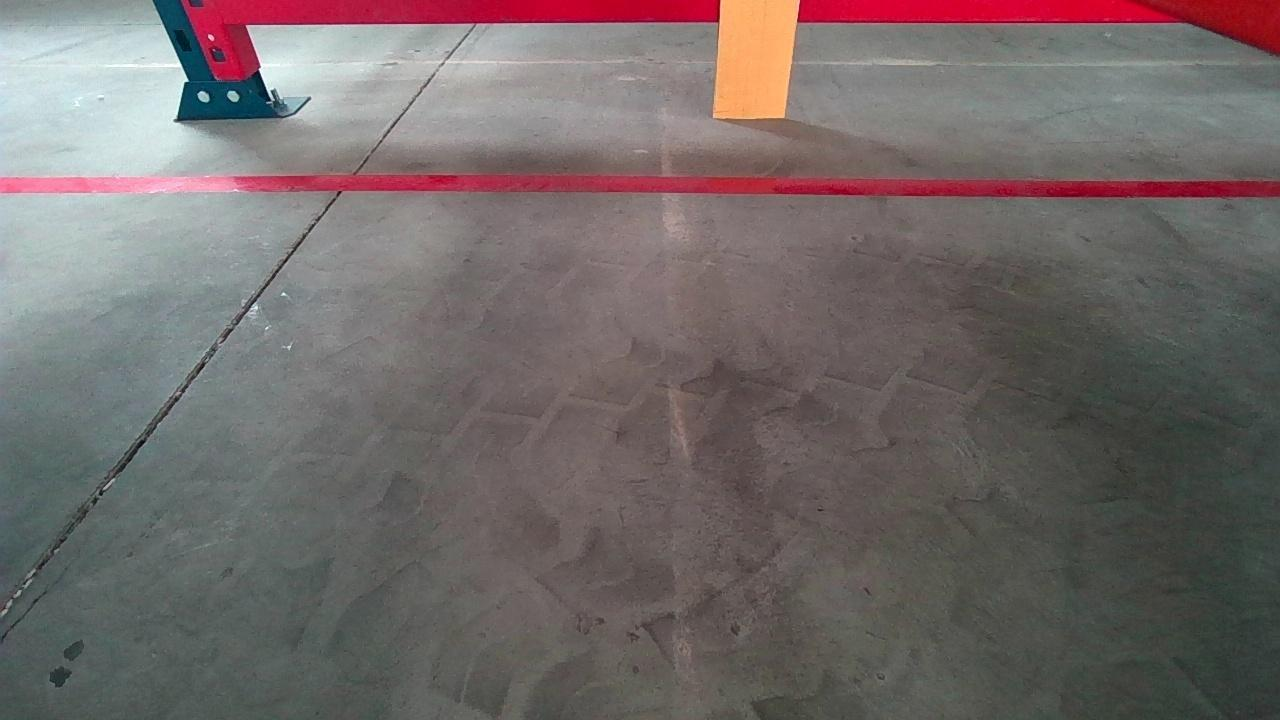h_rack: (204, 0, 1182, 25)
orange_strip: (713, 0, 798, 121)
